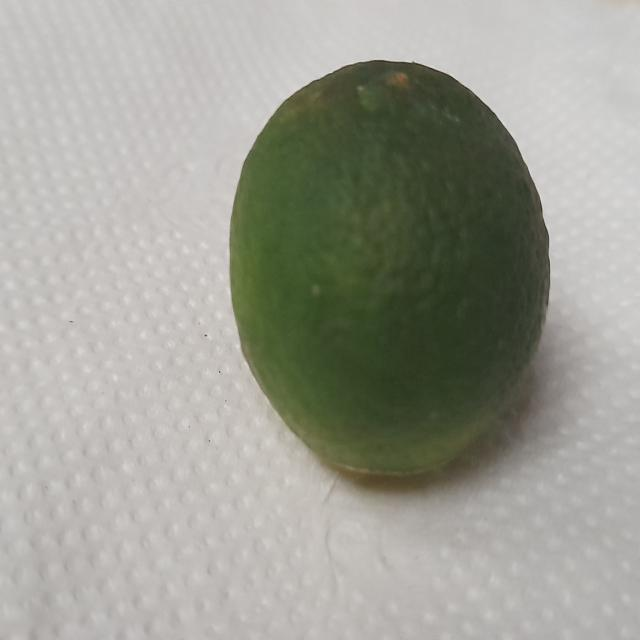heathy: (222, 42, 561, 505)
